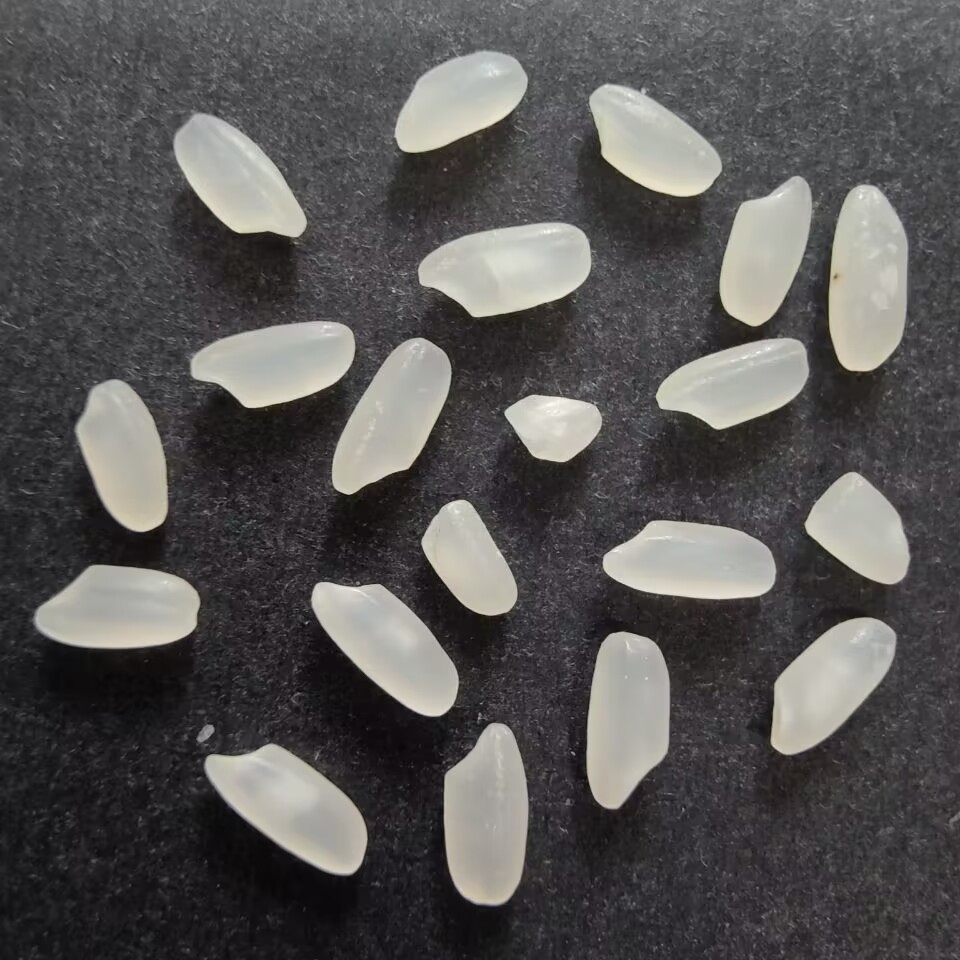broken: (804, 468, 912, 589), (416, 496, 519, 618), (501, 388, 607, 465)
rice: (196, 742, 369, 880), (308, 578, 462, 722), (327, 337, 454, 497), (765, 613, 900, 760), (412, 218, 595, 325), (171, 109, 312, 240), (581, 628, 679, 814), (586, 79, 727, 200), (439, 718, 529, 907), (26, 559, 203, 655), (70, 375, 172, 538), (183, 316, 359, 410), (827, 182, 913, 374), (390, 46, 532, 154), (601, 518, 783, 602), (715, 173, 814, 326), (653, 337, 811, 432)
